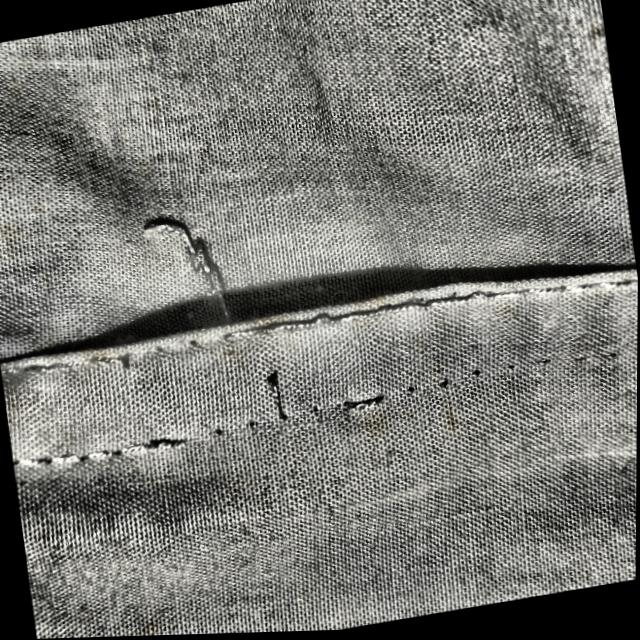Stitch: (169, 354, 520, 495), (121, 186, 270, 387)
